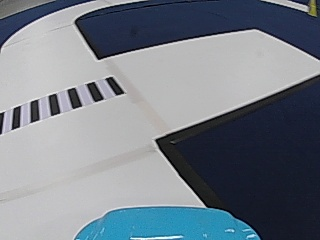CrossWalk: (7, 77, 120, 127)
